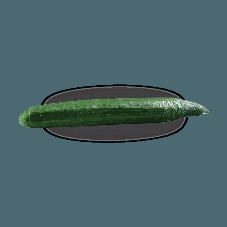cucumber: (17, 98, 211, 132)
